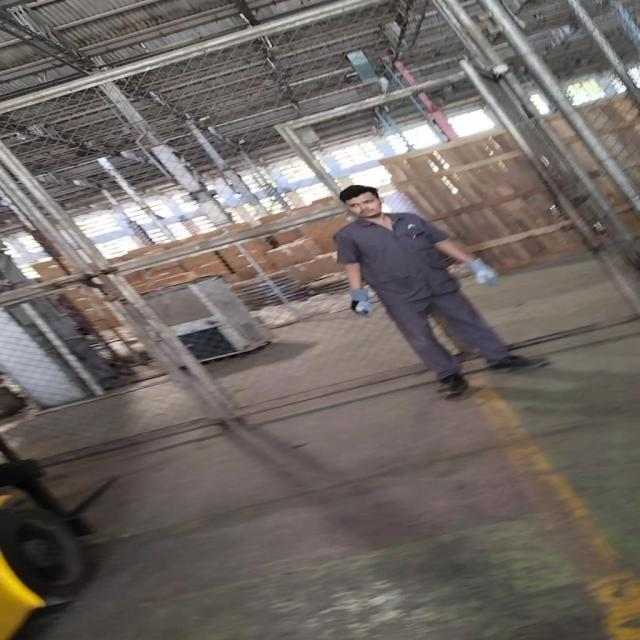Gloves-Detection: (462, 258, 500, 290), (343, 289, 374, 323)
